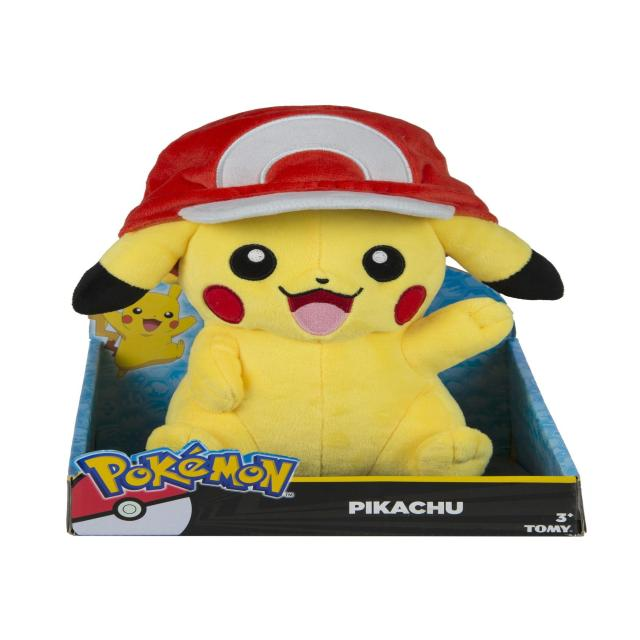pikachu: (74, 211, 564, 476)
